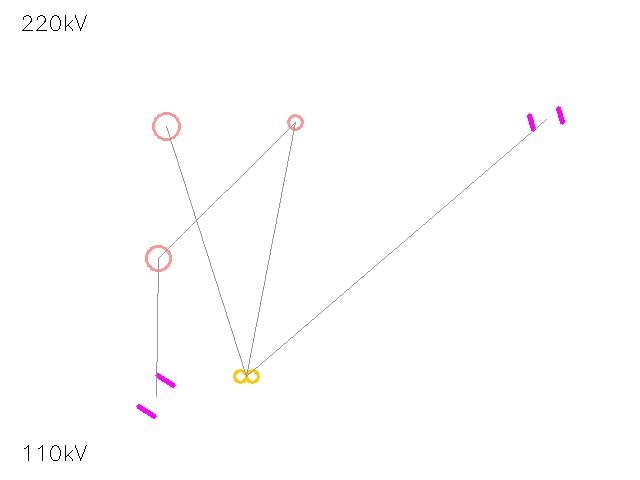capacitor: (126, 366, 186, 426), (521, 94, 571, 144)
current_transformer: (134, 234, 182, 282)
reactor: (140, 100, 192, 152)
surge_arrester: (280, 107, 310, 137)
transformer_2w: (231, 361, 261, 391)
